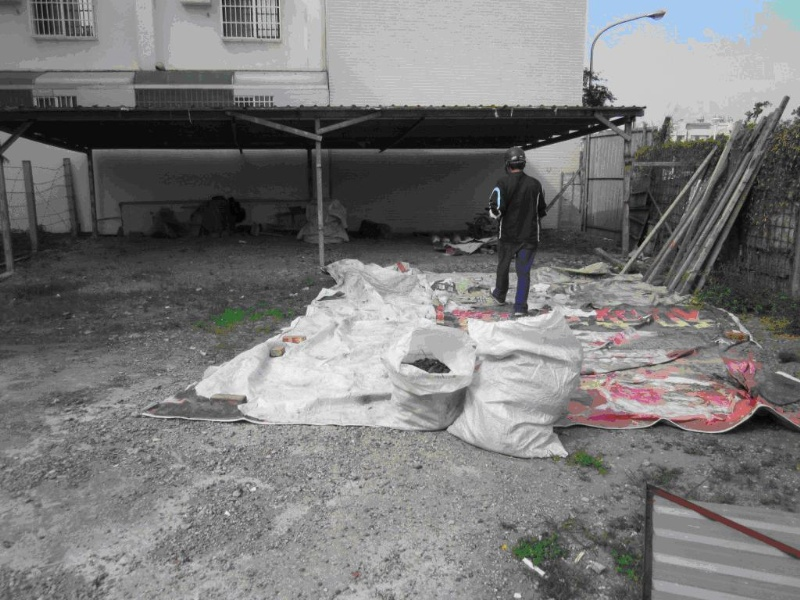plastic_bag: (240, 262, 427, 428), (582, 303, 765, 429), (445, 307, 585, 458), (431, 262, 671, 316), (385, 322, 474, 430)
